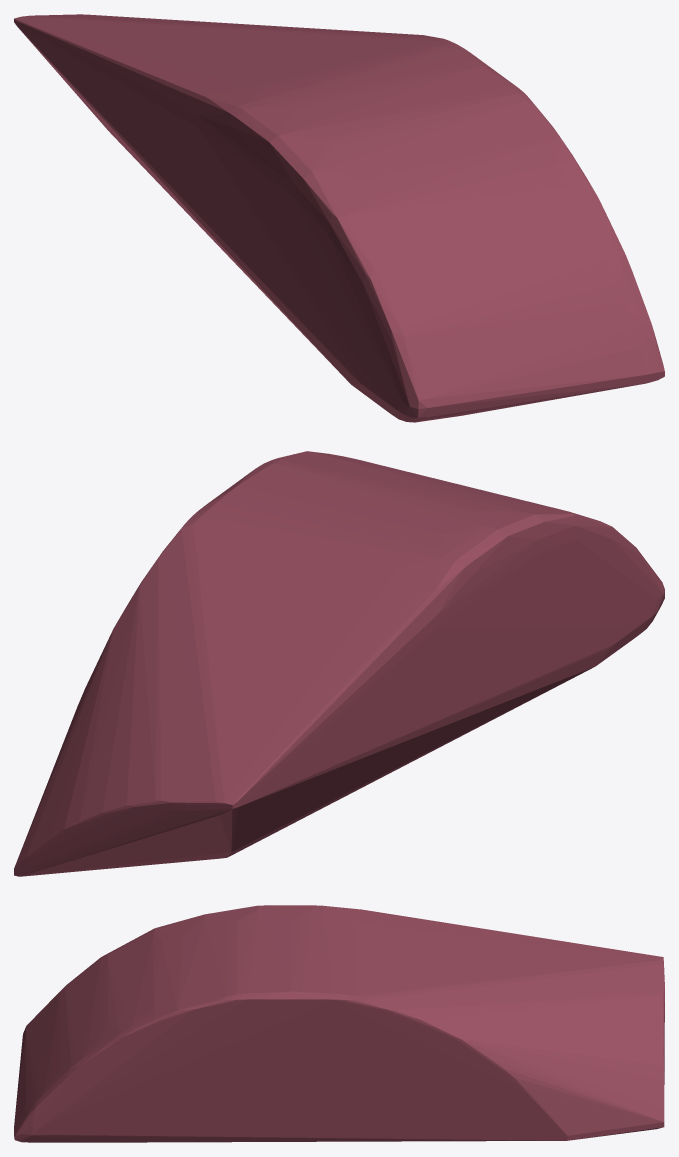
Rendered from right-hip-roll-0_part_13.obj.
3 renders of one model, top to bottom at view 1: azimuth 30°, elevation 25°; view 2: azimuth 150°, elevation 25°; view 3: azimuth 270°, elevation 25°, orthographic. The views are drawn at different scales.
Bounding box in the file's own units: 0.0266 × 0.0197 × 0.0761.
